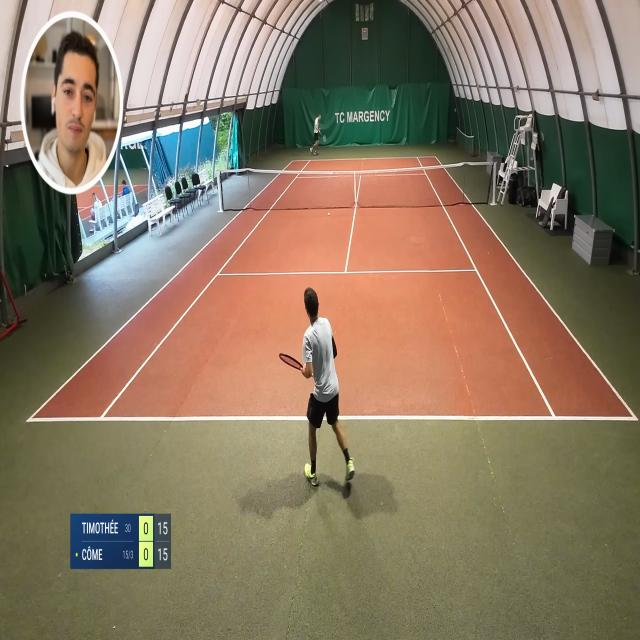ball: (327, 211, 330, 217)
